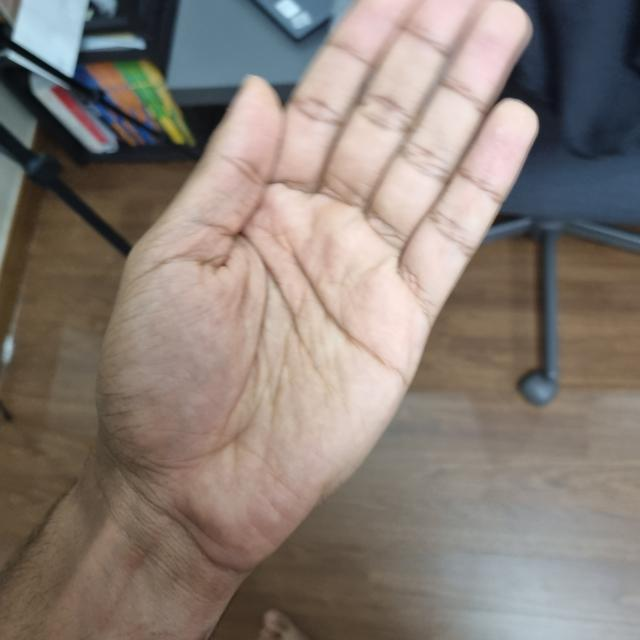Paper: (119, 2, 540, 556)
